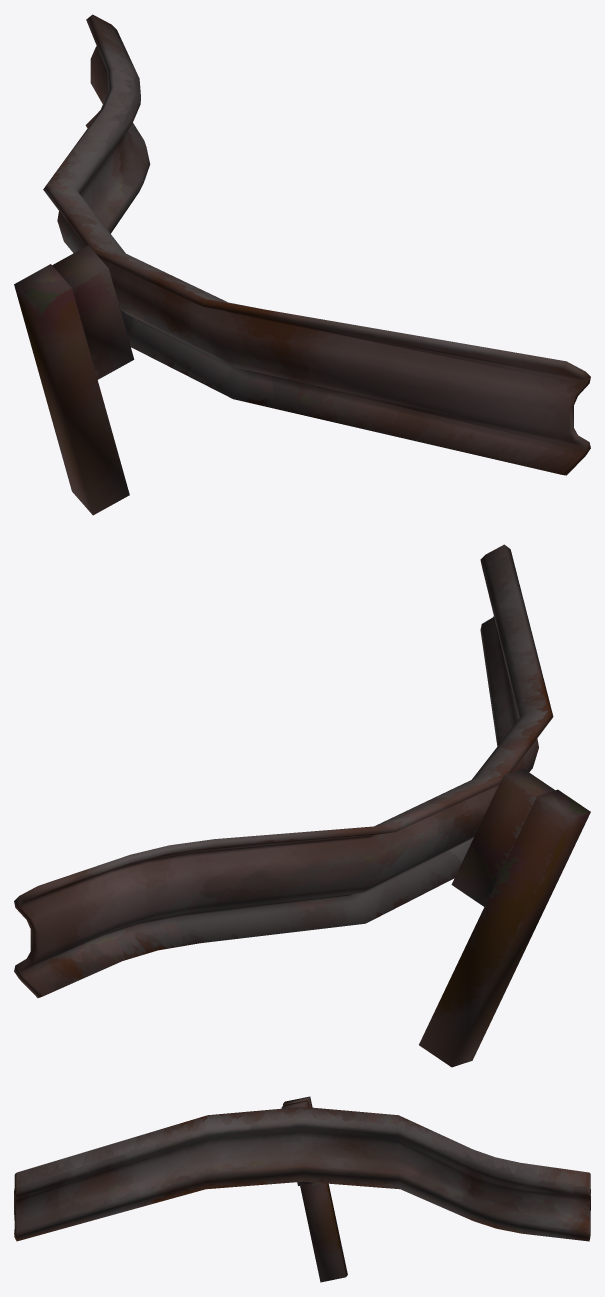
Rendered from Segment#4(Dented_Var#1).fbx.
3 views of the same model, one above another, from view 1: azimuth 30°, elevation 25°; view 2: azimuth 150°, elevation 25°; view 3: azimuth 270°, elevation 25° (orthographic). The views are drawn at different scales.
Visible parts, largest first — view 1: Cube.008, Cube.006; view 2: Cube.008, Cube.006; view 3: Cube.008, Cube.006.
Boxes of the visible parts, left/top/right/bottom form: Cube.008: left=43, top=14, right=590, bottom=475; Cube.006: left=14, top=245, right=134, bottom=515; Cube.008: left=14, top=544, right=553, bottom=997; Cube.006: left=419, top=769, right=590, bottom=1067; Cube.008: left=14, top=1107, right=590, bottom=1241; Cube.006: left=281, top=1096, right=347, bottom=1282.
Bounding box in the file's own units: 109 × 89.15 × 270.
